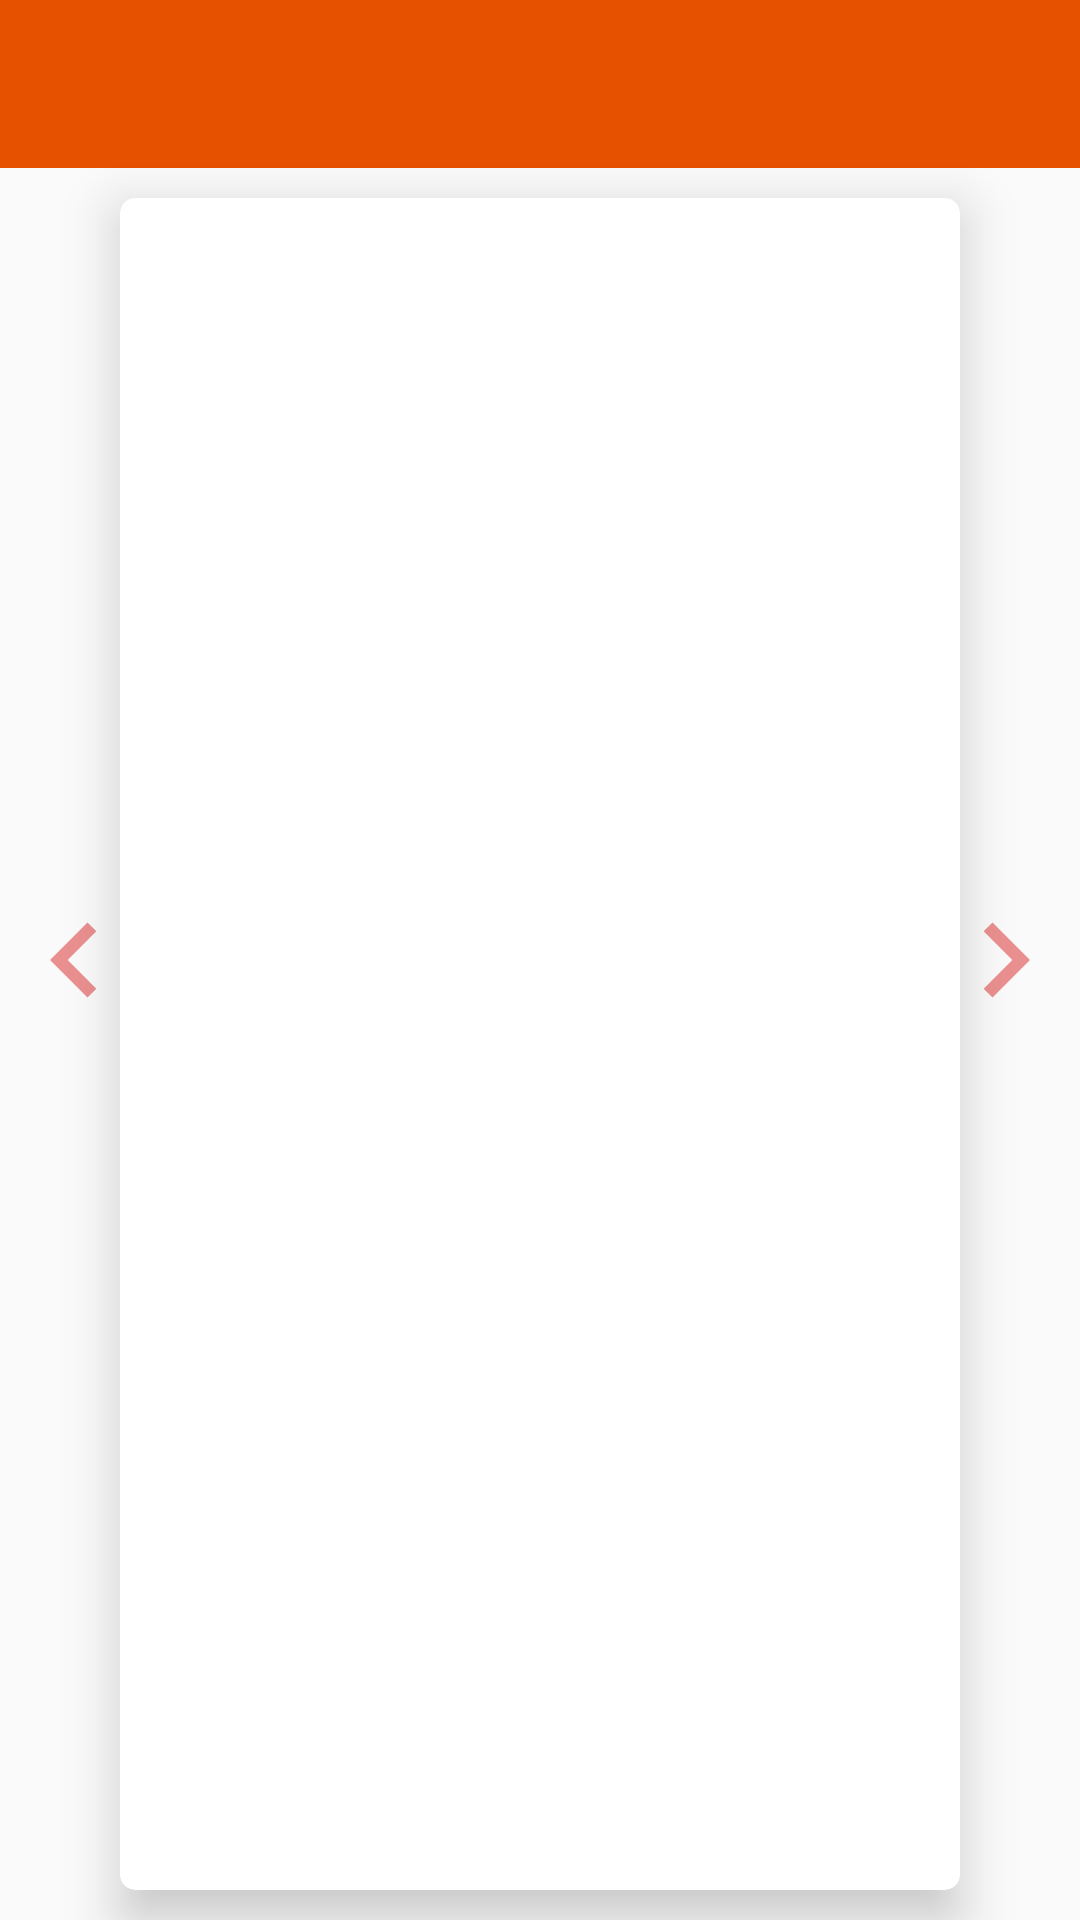

Icons on this 1080px×1920px Android screen, each with the point to tap as (x=x, y=y):
next: (x=1007, y=960)
previous: (x=73, y=960)
